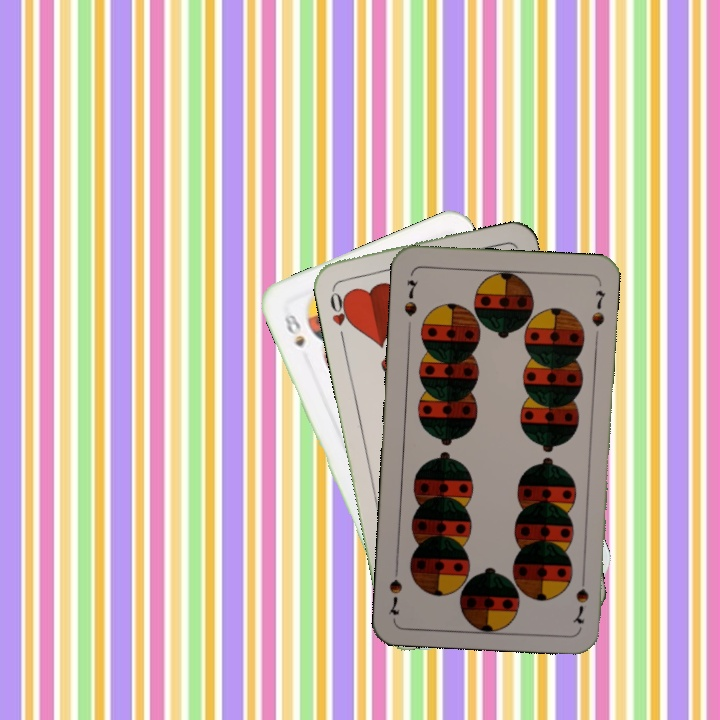HO: (326, 282, 356, 342)
S7: (569, 569, 591, 626), (400, 276, 420, 319)
S8: (280, 308, 308, 350)
